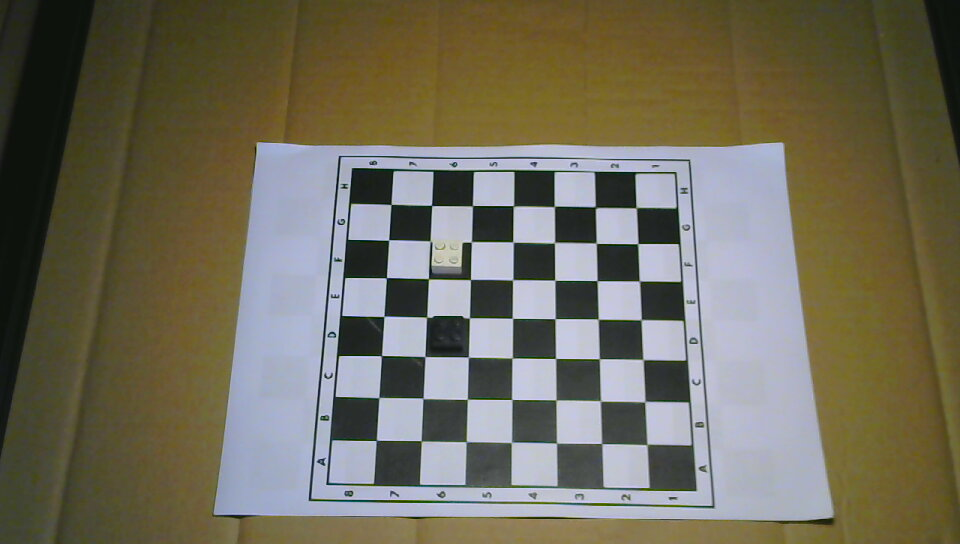bp: (430, 314, 465, 354)
wp: (430, 240, 464, 274)
